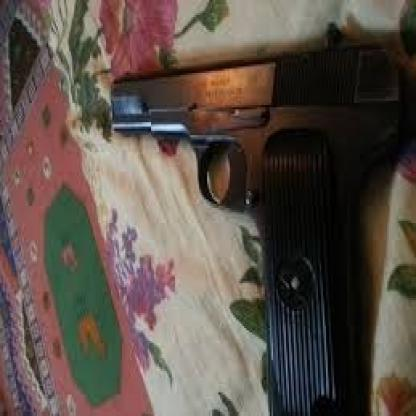Pistol: (103, 30, 412, 412)
